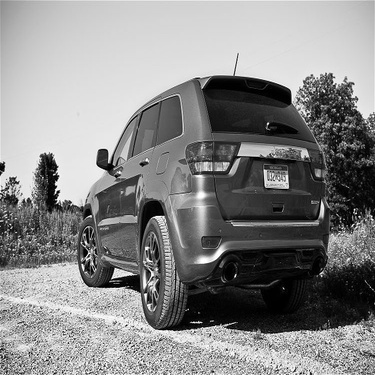car: (62, 43, 337, 328)
